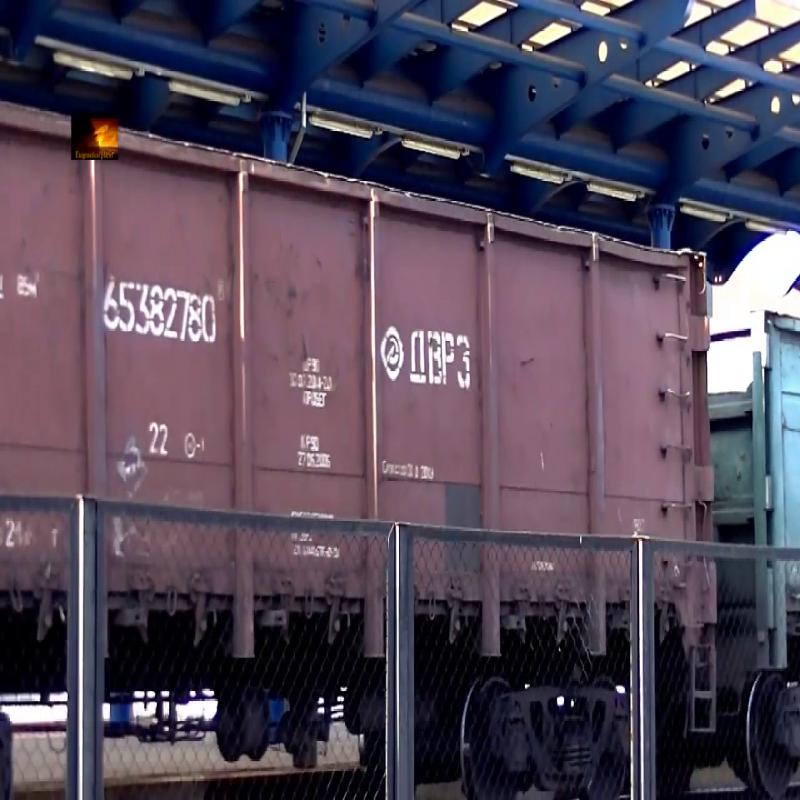train: (1, 46, 743, 774)
